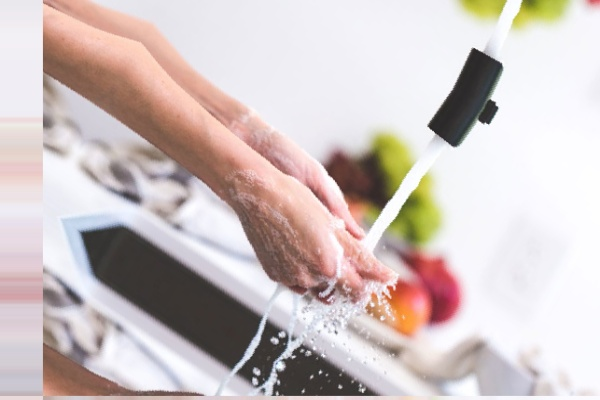washing hand: (134, 0, 575, 399)
